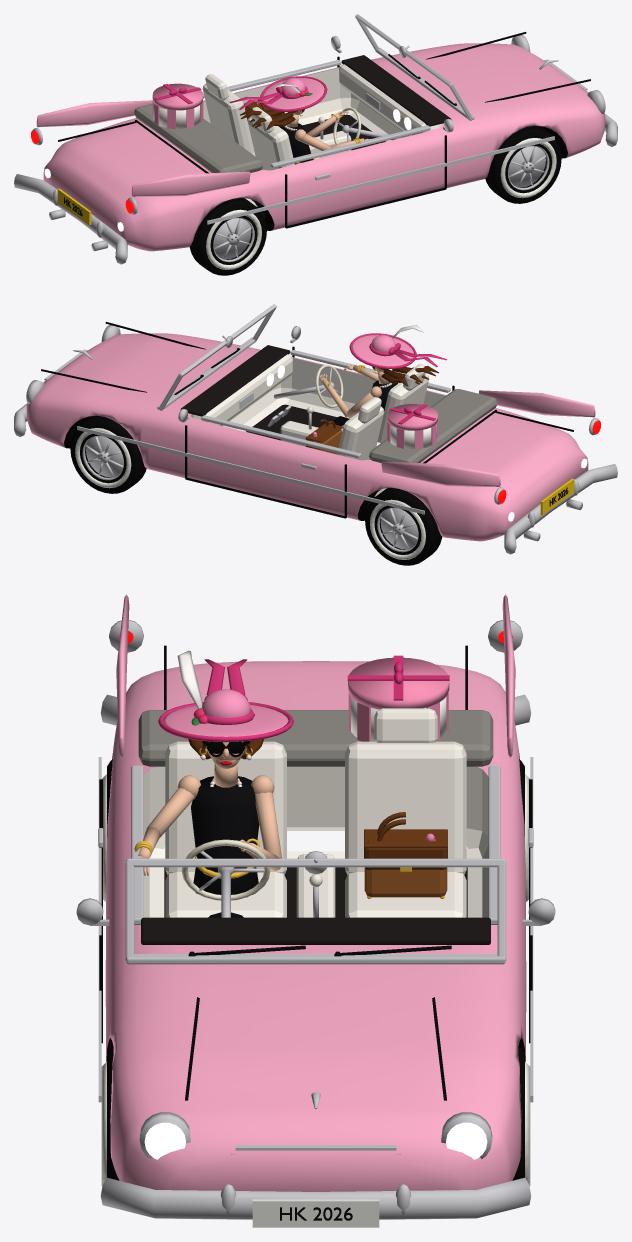
Rendered from pink.glb.
3 views of the same model, one above another, from view 1: azimuth 30°, elevation 25°; view 2: azimuth 150°, elevation 25°; view 3: azimuth 270°, elevation 25° (orthographic). The views are drawn at different scales.
Parts seen in each view (by area): view 1: body, tonneau, w_tyre.003, w_tyre.001, dashtop, fin.001, fin, dash, back, sidetrim.001, bumper.001, back.001 (+18 smaller); view 2: body, tonneau, w_tyre.002, w_tyre, dashtop, fin, fin.001, dash, sidetrim, bumper.001, back, floor (+17 smaller); view 3: body, back, dashtop, bumper, tonneau, back.001, torso, framebase, frametop, hatlid, seat, seat.001 (+25 smaller).
Boxes of the visible parts, x1,y1,x2,y2 form: body: [43, 43, 605, 251]; tonneau: [134, 104, 262, 172]; w_tyre.003: [189, 198, 266, 275]; w_tyre.001: [485, 125, 561, 203]; dashtop: [341, 55, 451, 126]; fin.001: [131, 171, 250, 196]; fin: [36, 100, 152, 127]; dash: [339, 64, 440, 135]; back: [202, 83, 254, 152]; sidetrim.001: [207, 136, 554, 224]; bumper.001: [14, 174, 127, 264]; back.001: [247, 116, 294, 170]; body: [26, 333, 588, 541]; tonneau: [369, 389, 497, 462]; w_tyre.002: [365, 488, 442, 565]; w_tyre: [70, 415, 146, 493]; dashtop: [180, 345, 290, 416]; fin: [381, 461, 500, 486]; fin.001: [479, 390, 595, 417]; dash: [191, 354, 292, 425]; sidetrim: [77, 426, 424, 514]; bumper.001: [504, 464, 617, 554]; back: [337, 406, 384, 460]; floor: [246, 404, 380, 507]; body: [105, 661, 526, 1191]; back: [345, 741, 466, 874]; dashtop: [141, 917, 490, 944]; bumper: [100, 1177, 531, 1219]; tonneau: [138, 710, 493, 766]; back.001: [165, 741, 286, 874]; torso: [191, 776, 259, 897]; framebase: [126, 954, 505, 964]; frametop: [126, 858, 505, 867]; hatlid: [348, 657, 449, 709]; seat: [345, 872, 466, 917]; seat.001: [165, 872, 286, 917].
Bounding box in the file's own units: 4.93 × 1.47 × 1.97.
